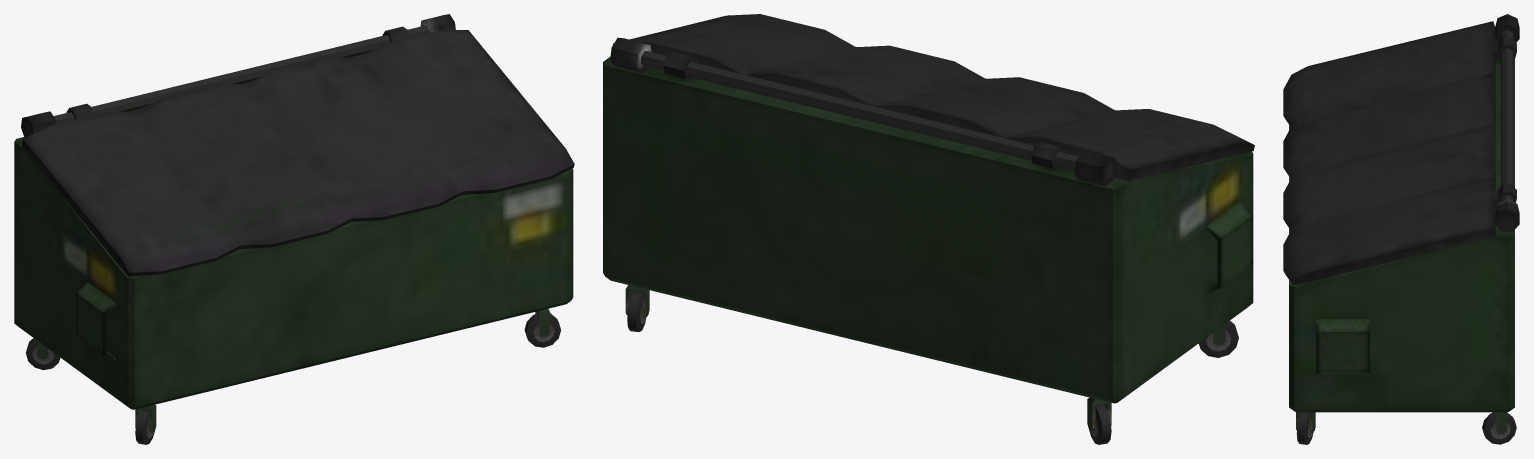
Rendered from dumpster.glb.
The picture shows the model from 3 angles, left to right: view 1: azimuth 30°, elevation 25°; view 2: azimuth 150°, elevation 25°; view 3: azimuth 270°, elevation 25°; orthographic projection. The views are drawn at different scales.
Parts seen in each view (by area): view 1: Dumpster, Cover; view 2: Dumpster, Cover; view 3: Cover, Dumpster.
Boxes of the visible parts, x1,y1,x2,y2 form: Dumpster: (14, 14, 573, 444); Cover: (21, 26, 574, 276); Dumpster: (603, 37, 1253, 444); Cover: (613, 14, 1254, 181); Cover: (1283, 21, 1516, 285); Dumpster: (1289, 14, 1519, 444).
Size of the model in its own units: 2.63 by 1.35 by 1.21.
Materials: 1 (1 with a texture image).
